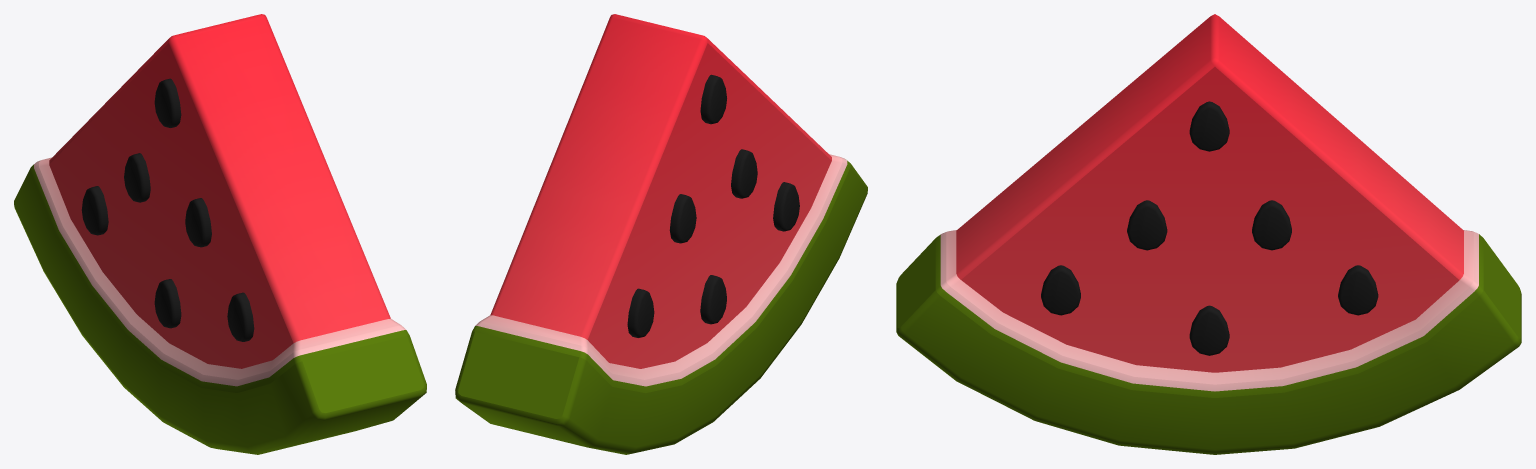
File: Watermelon_V1_03.fbx
3 views of the same model, side by side, from view 1: azimuth 30°, elevation 25°; view 2: azimuth 150°, elevation 25°; view 3: azimuth 270°, elevation 25° (orthographic). The views are drawn at different scales.
Visible parts, largest first — view 1: Watermelon_V1_03; view 2: Watermelon_V1_03; view 3: Watermelon_V1_03.
Boxes of the visible parts, <box> form: Watermelon_V1_03: <box>14,14,426,454</box>; Watermelon_V1_03: <box>455,14,867,454</box>; Watermelon_V1_03: <box>896,14,1521,454</box>.
Bounding box in the file's own units: 9.1 × 29.32 × 42.1.
